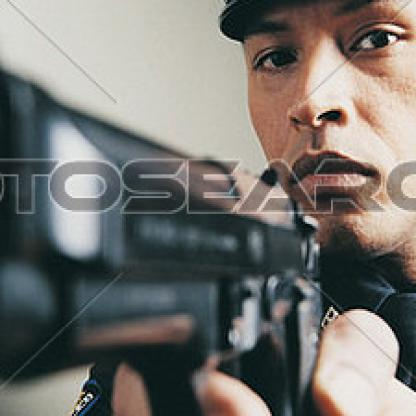gun: (0, 28, 355, 414)
